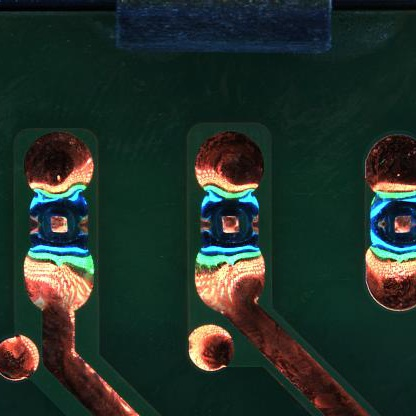spot: (27, 188, 91, 254), (200, 186, 259, 256), (369, 192, 416, 255)
